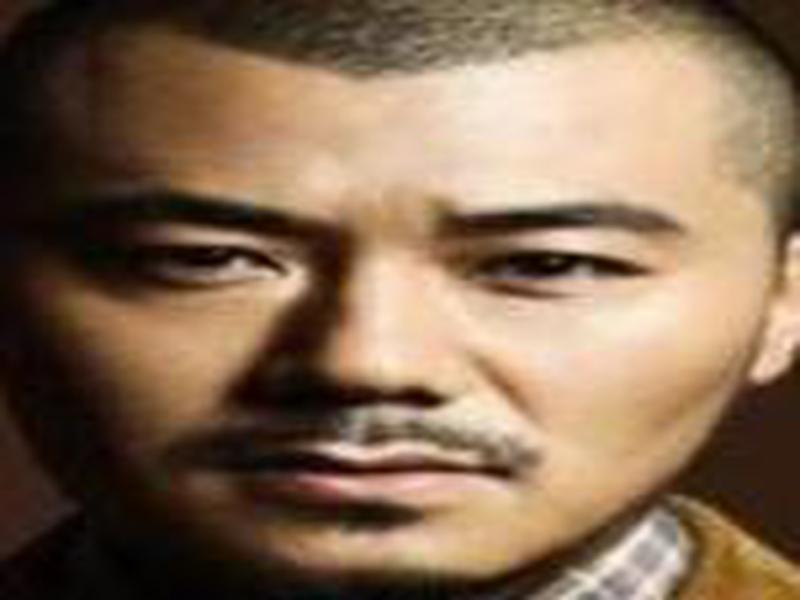without_mask: (26, 39, 776, 589)
